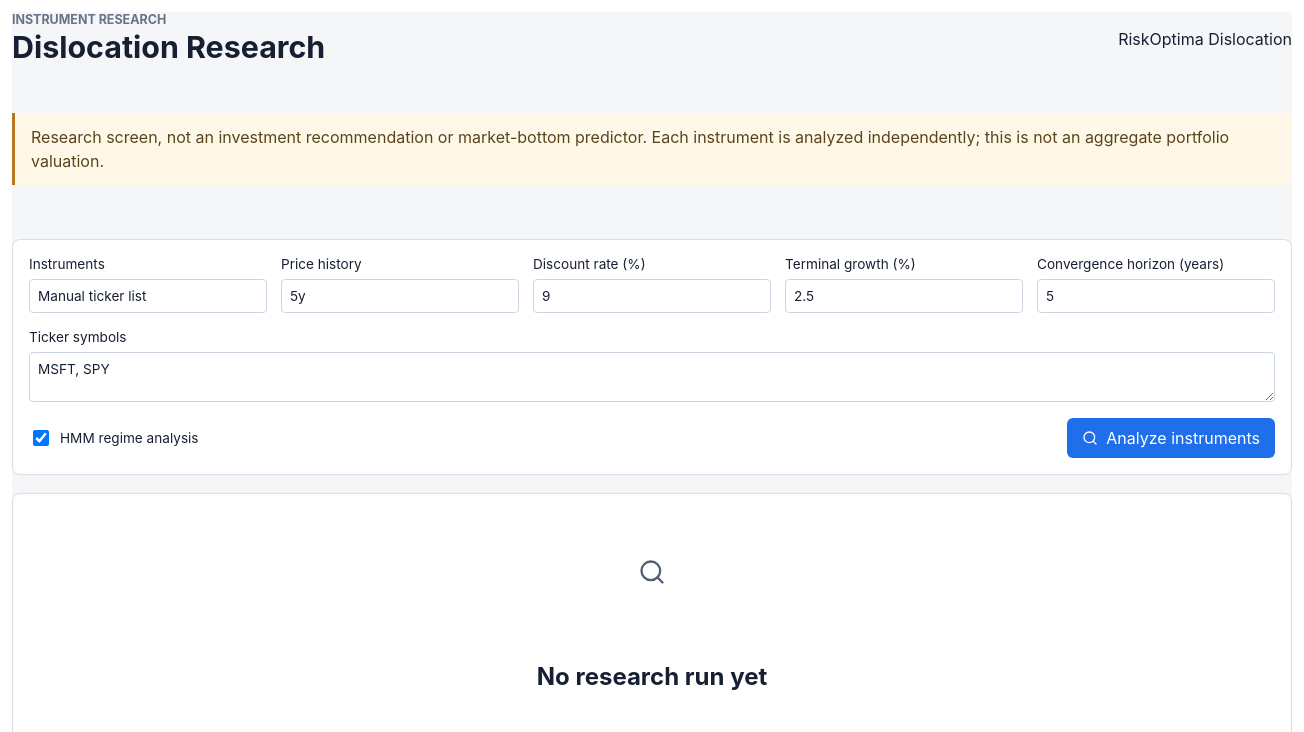
Test case: Dislocation Research › shows network failures
What coordinates should you click on to do the following:
click the button "Analyze instruments"
I would click on:
 (1171, 438)
Its box is [1067, 418, 1275, 458].
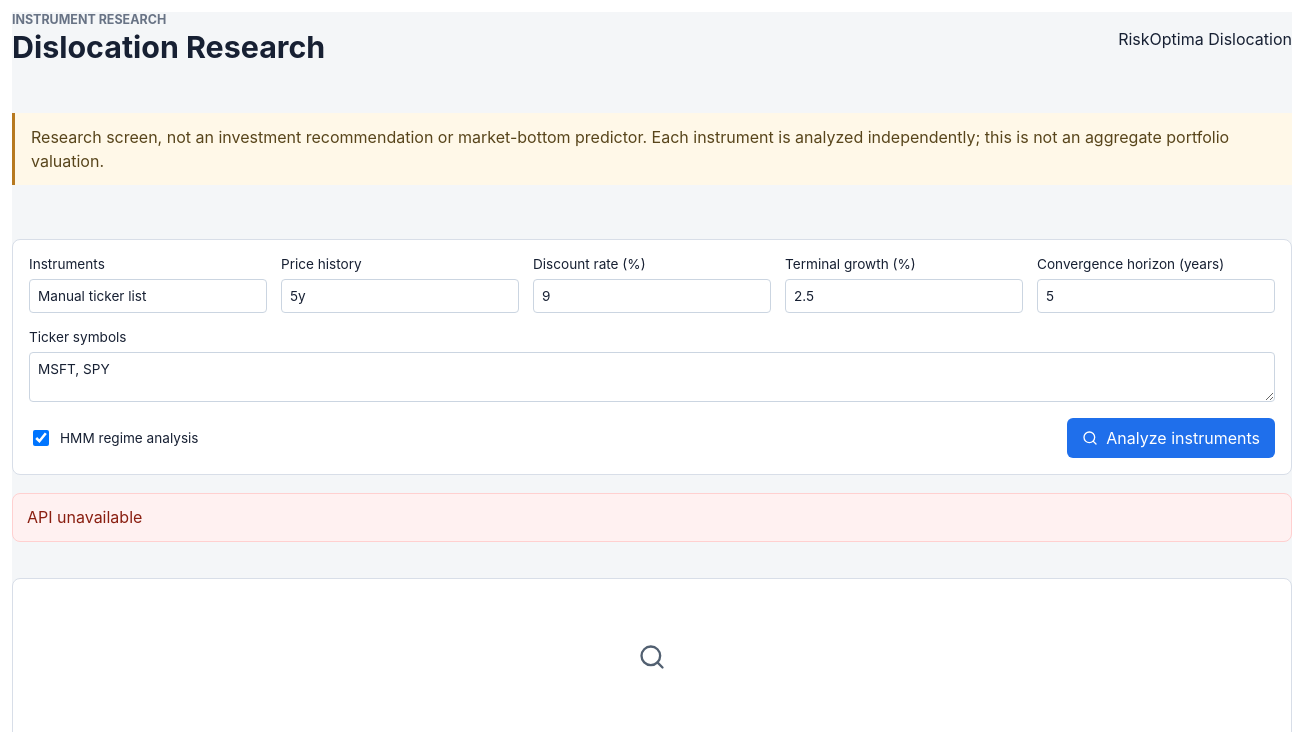
Now the message reads "API unavailable", box [27, 507, 142, 527]
